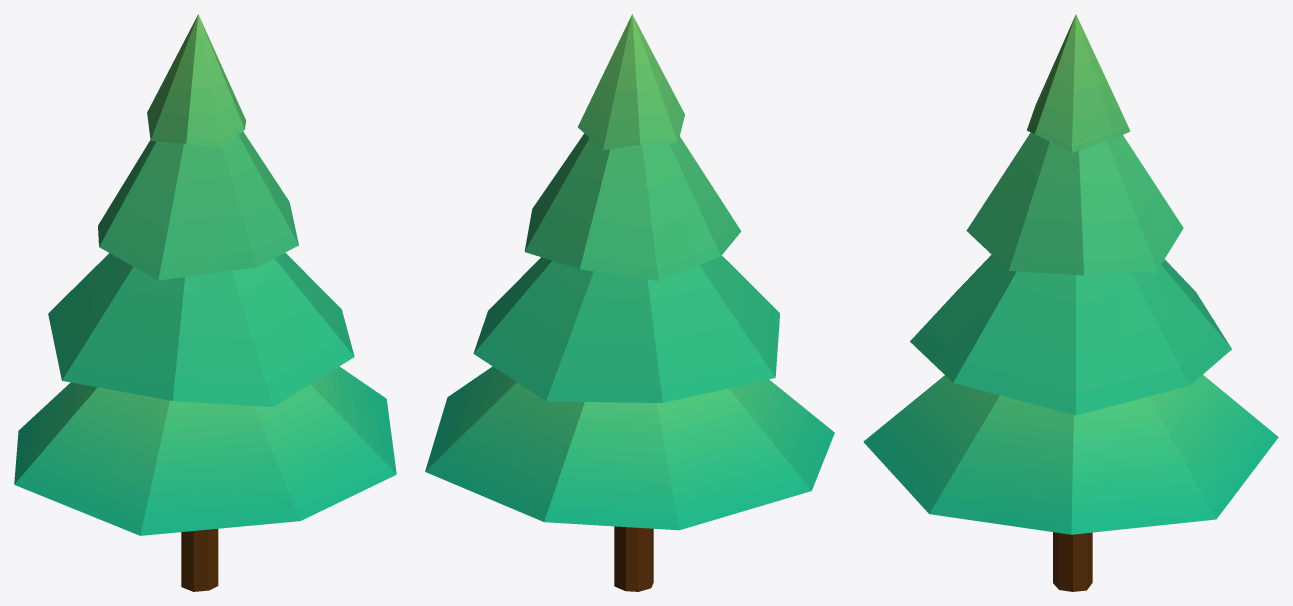
The model's file is pinetree.fbx.
The picture shows the model from 3 angles, left to right: view 1: azimuth 30°, elevation 25°; view 2: azimuth 150°, elevation 25°; view 3: azimuth 270°, elevation 25°; orthographic projection.
Parts seen in each view (by area): view 1: Cube; view 2: Cube; view 3: Cube.
Boxes of the visible parts, x1,y1,x2,y2 form: Cube: (14,14,396,591); Cube: (425,14,834,591); Cube: (863,14,1278,591).
Size of the model in its own units: 3659 by 5411 by 3573.
